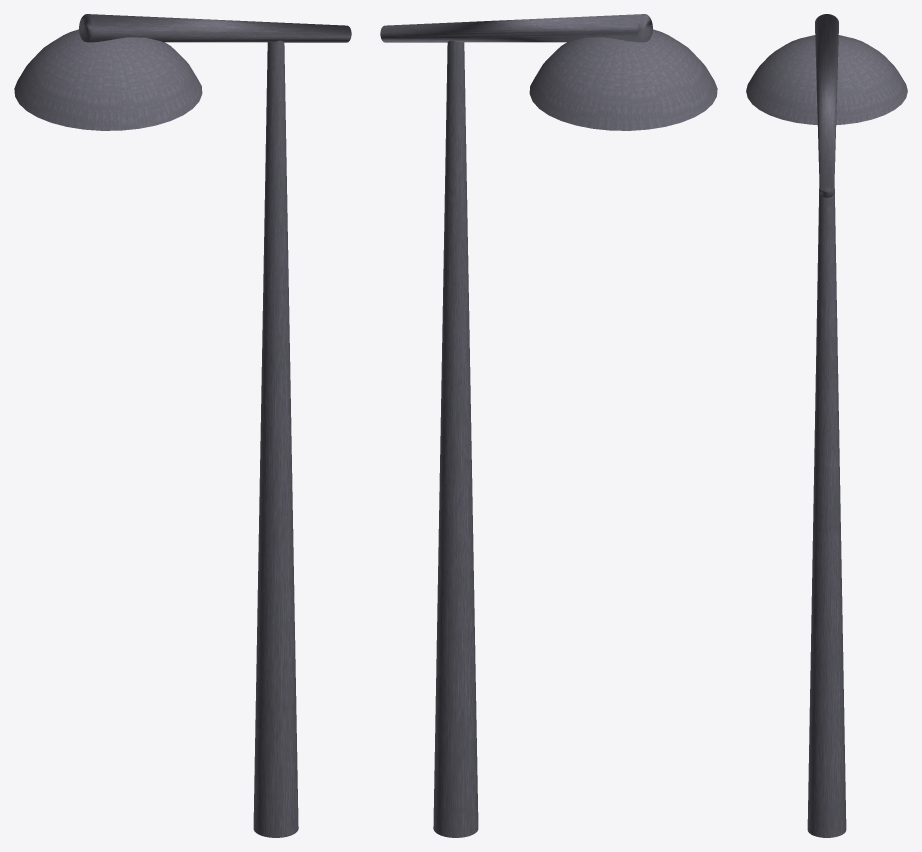
File: lampPost.fbx
The picture shows the model from 3 angles, left to right: view 1: azimuth 30°, elevation 25°; view 2: azimuth 150°, elevation 25°; view 3: azimuth 270°, elevation 25°; orthographic projection. The views are drawn at different scales.
Visible parts, largest first — view 1: Cylinder; view 2: Cylinder; view 3: Cylinder.
Boxes of the visible parts, bbox=[...] form: Cylinder: bbox=[14, 14, 351, 837]; Cylinder: bbox=[380, 14, 717, 837]; Cylinder: bbox=[746, 14, 907, 837].
Size of the model in its own units: 748 by 1906 by 379.
1 material, 1 textured.
